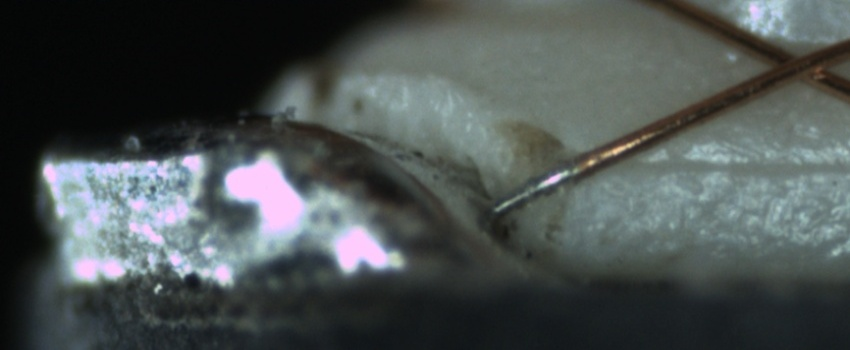CL: (749, 34, 844, 90)
DL: (621, 129, 850, 193)
TS: (492, 160, 582, 212)
TTCW: (474, 133, 631, 219)
